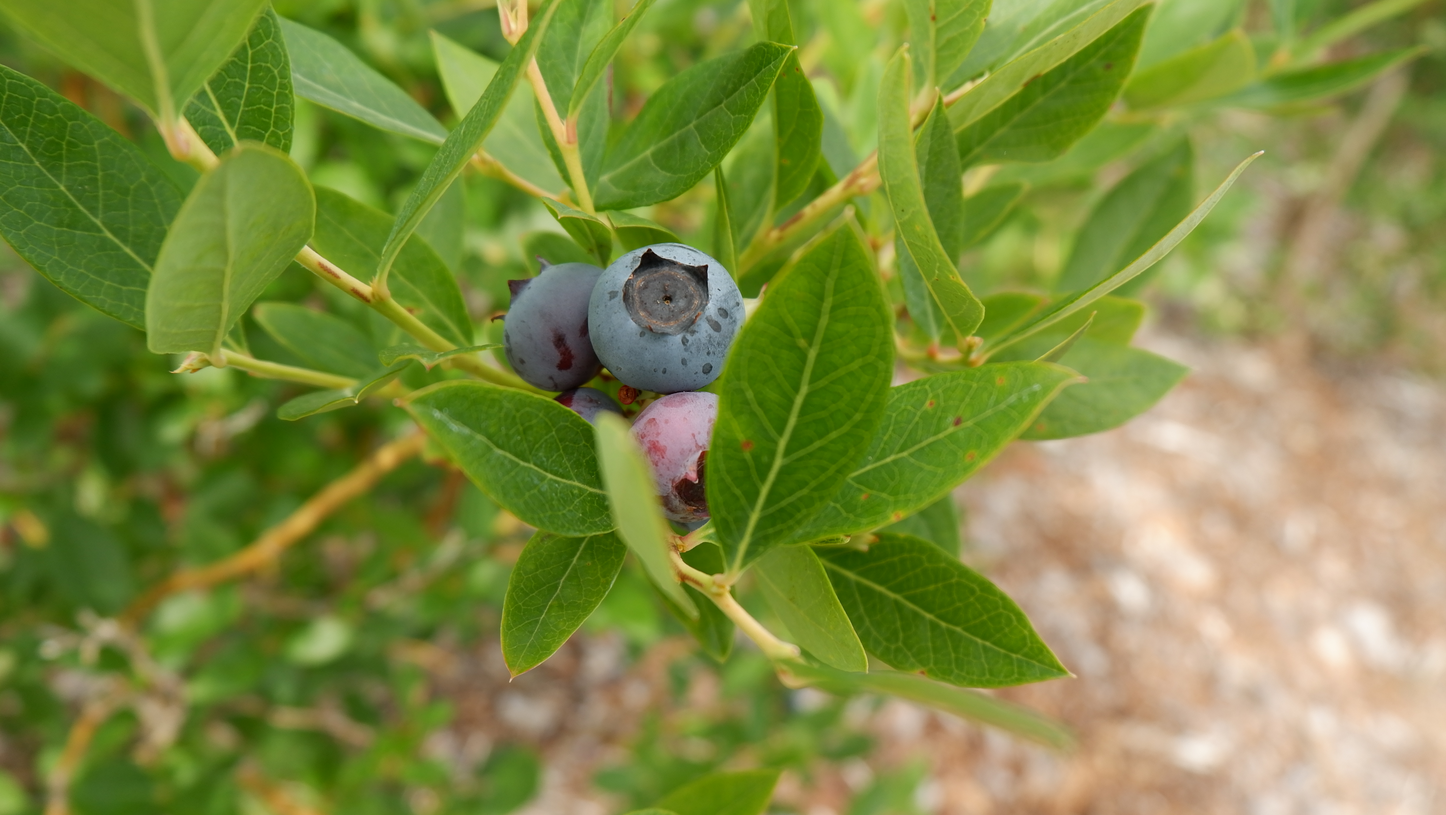Immature: (742, 282, 768, 320)
Mature: (587, 242, 748, 395), (490, 254, 606, 392), (627, 392, 722, 523), (552, 386, 629, 424)
